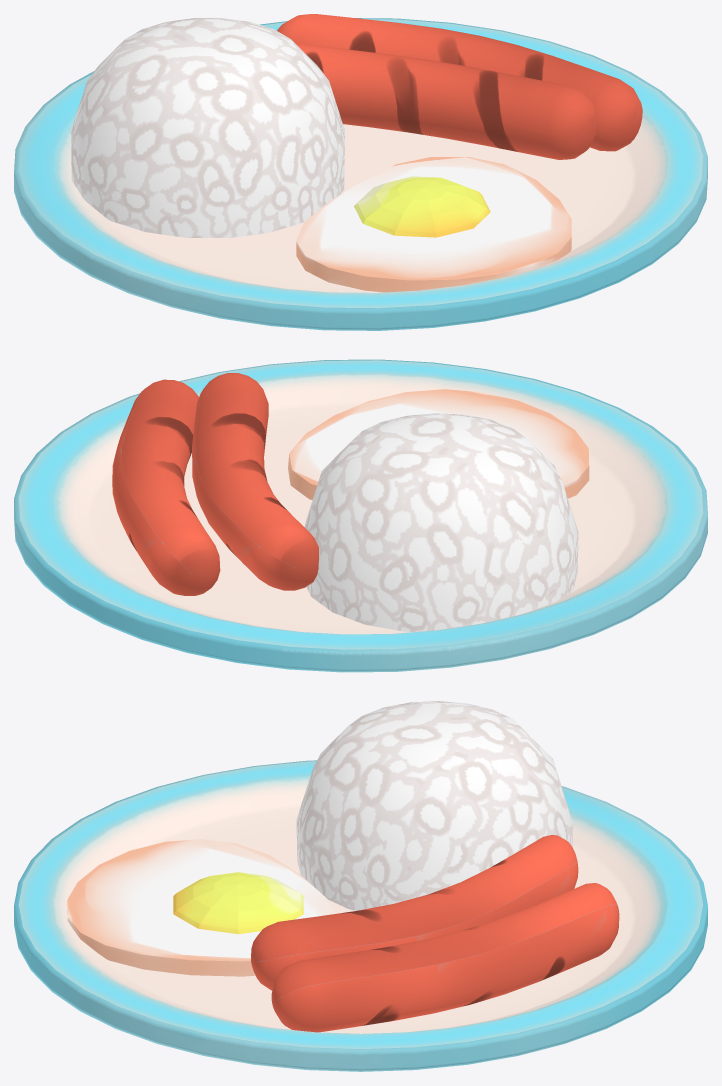
3 renders of one model, top to bottom at view 1: azimuth 30°, elevation 25°; view 2: azimuth 150°, elevation 25°; view 3: azimuth 270°, elevation 25°, orthographic.
Visible parts, largest first — view 1: Plate, Rice, EggWhite, Hotdog_2, HotDog, EggYolk; view 2: Plate, Rice, Hotdog_2, HotDog, EggWhite; view 3: Plate, Rice, HotDog, EggWhite, Hotdog_2, EggYolk.
Part boxes in pixels (x1,y1,x2,y2): Plate: (14, 18, 707, 330); Rice: (71, 18, 344, 237); EggWhite: (296, 157, 571, 292); Hotdog_2: (296, 44, 597, 159); HotDog: (277, 14, 642, 151); EggYolk: (354, 176, 490, 237); Plate: (14, 359, 707, 672); Rice: (304, 413, 578, 631); Hotdog_2: (192, 373, 318, 590); HotDog: (112, 379, 220, 595); EggWhite: (288, 389, 589, 499); Plate: (14, 760, 707, 1071); Rice: (296, 701, 572, 910); HotDog: (271, 883, 619, 1032); EggWhite: (67, 839, 338, 976); Hotdog_2: (251, 835, 578, 990); EggYolk: (173, 872, 303, 934).
Bounding box in the file's own units: 4.94 × 1.13 × 4.94.
1 material, 1 textured.
